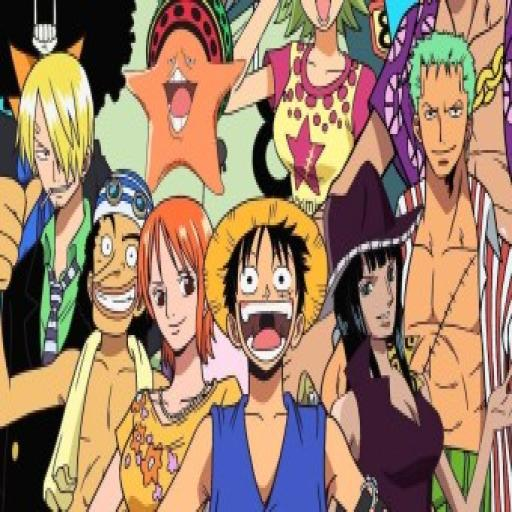Luffy: (205, 198, 331, 376)
Nami: (138, 193, 214, 363)
NicoRobin: (328, 164, 425, 355)
Usopp: (82, 161, 154, 336)
Zoro: (406, 27, 475, 176)
sanji: (12, 56, 104, 220)
